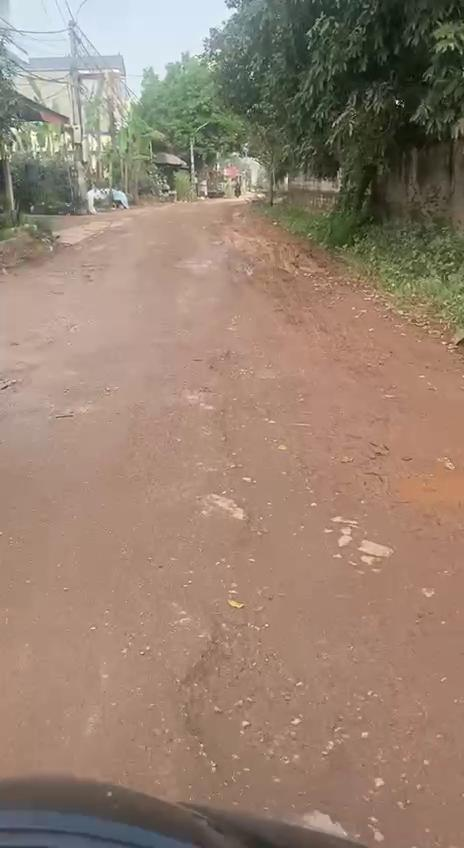pothole: (174, 630, 377, 783), (393, 464, 464, 533)
